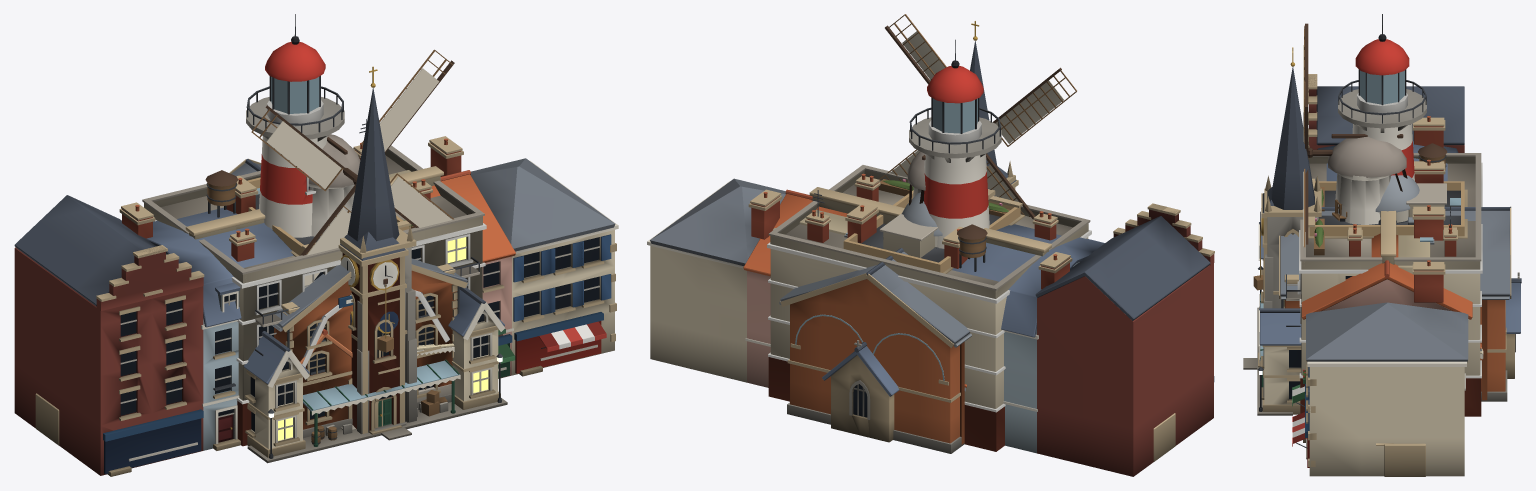
Rendered from buildings.glb.
The picture shows the model from 3 angles, left to right: view 1: azimuth 30°, elevation 25°; view 2: azimuth 150°, elevation 25°; view 3: azimuth 270°, elevation 25°; orthographic projection. The views are drawn at different scales.
Parts seen in each view (by area): view 1: townhouse_row-mesh, station_grand-mesh, apartments-mesh, warehouse-mesh, lighthouse-mesh, church-mesh, blades, windmill-mesh, tunnel_portal_rail-mesh, tunnel_portal_road-mesh, barn-mesh; view 2: townhouse_row-mesh, apartments-mesh, warehouse-mesh, lighthouse-mesh, church-mesh, blades, tunnel_portal_rail-mesh, tunnel_portal_road-mesh, silo-mesh, windmill-mesh, station_grand-mesh; view 3: townhouse_row-mesh, apartments-mesh, warehouse-mesh, church-mesh, lighthouse-mesh, station_grand-mesh, windmill-mesh, tunnel_portal_rail-mesh, tunnel_portal_road-mesh, silo-mesh, blades.
Part boxes in pixels (left/top/right/bottom): townhouse_row-mesh: left=14, top=136, right=618, bottom=476; station_grand-mesh: left=243, top=231, right=507, bottom=463; apartments-mesh: left=142, top=119, right=486, bottom=446; warehouse-mesh: left=229, top=158, right=468, bottom=444; lighthouse-mesh: left=246, top=14, right=344, bottom=237; church-mesh: left=325, top=66, right=448, bottom=440; blades: left=251, top=49, right=454, bottom=288; windmill-mesh: left=308, top=134, right=360, bottom=237; tunnel_portal_rail-mesh: left=185, top=166, right=443, bottom=239; tunnel_portal_road-mesh: left=35, top=393, right=59, bottom=445; barn-mesh: left=302, top=290, right=449, bottom=429; townhouse_row-mesh: left=647, top=178, right=1214, bottom=476; apartments-mesh: left=767, top=165, right=1091, bottom=451; warehouse-mesh: left=779, top=248, right=971, bottom=453; lighthouse-mesh: left=909, top=39, right=1001, bottom=248; church-mesh: left=822, top=21, right=1015, bottom=442; blades: left=879, top=14, right=1076, bottom=219; tunnel_portal_rail-mesh: left=799, top=187, right=1051, bottom=256; tunnel_portal_road-mesh: left=772, top=228, right=1175, bottom=461; silo-mesh: left=888, top=192, right=942, bottom=248; windmill-mesh: left=907, top=151, right=925, bottom=205; station_grand-mesh: left=790, top=166, right=1018, bottom=385; townhouse_row-mesh: left=1292, top=74, right=1472, bottom=476; apartments-mesh: left=1286, top=143, right=1482, bottom=416; warehouse-mesh: left=1253, top=206, right=1511, bottom=401; church-mesh: left=1243, top=47, right=1521, bottom=378; lighthouse-mesh: left=1338, top=14, right=1426, bottom=180; station_grand-mesh: left=1257, top=187, right=1506, bottom=415; windmill-mesh: left=1312, top=134, right=1407, bottom=224; tunnel_portal_rail-mesh: left=1380, top=210, right=1430, bottom=273; tunnel_portal_road-mesh: left=1376, top=443, right=1425, bottom=476; silo-mesh: left=1375, top=175, right=1419, bottom=224; blades: left=1303, top=23, right=1312, bottom=247.
Bounding box in the file's own units: 0.906 × 0.628 × 0.4665.
